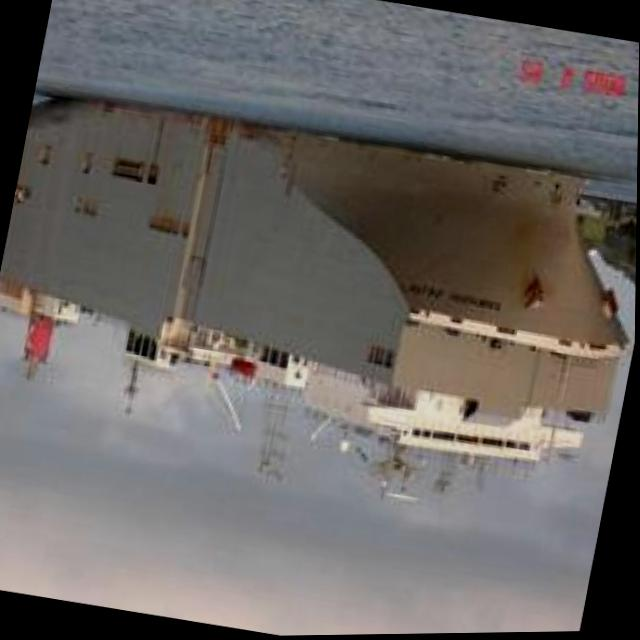ship2: (0, 95, 631, 503)
